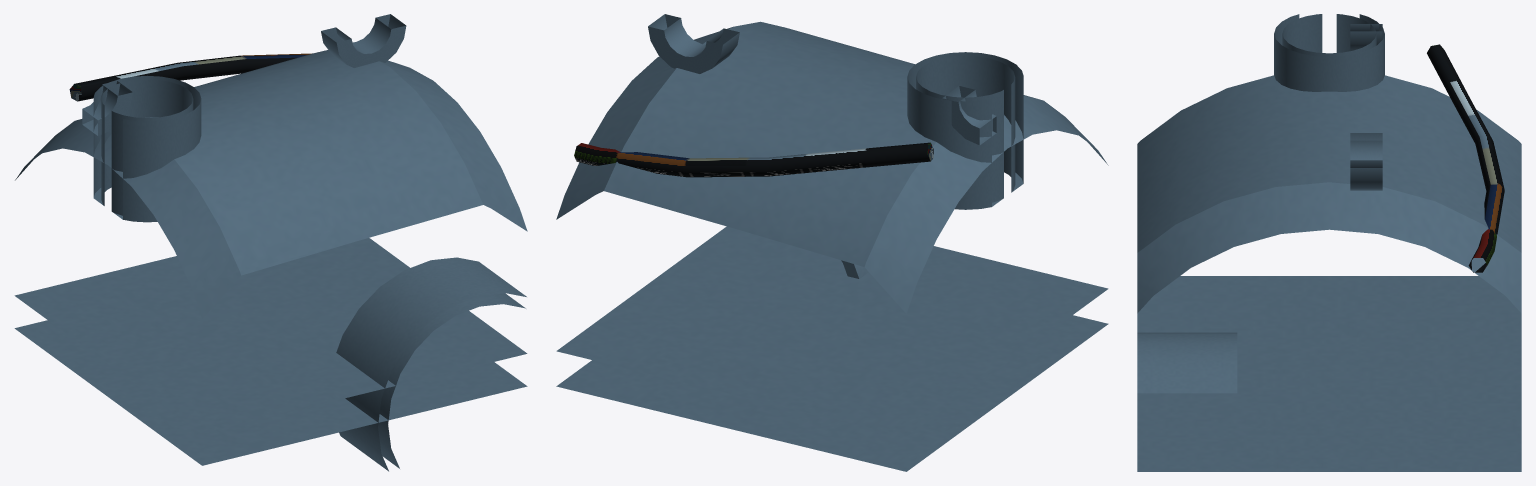
Rendered from cell_33.obj.
3 renders of one model, left to right at view 1: azimuth 30°, elevation 25°; view 2: azimuth 150°, elevation 25°; view 3: azimuth 270°, elevation 25°, orthographic. The views are drawn at different scales.
Visible parts, largest first — view 1: cell_33; view 2: cell_33; view 3: cell_33.
Part boxes in pixels (box(x1,y1,x2,y2)): cell_33: box(14, 14, 527, 471); cell_33: box(556, 14, 1108, 471); cell_33: box(1137, 14, 1521, 471).
Size of the model in its own units: 1 by 1 by 1.
